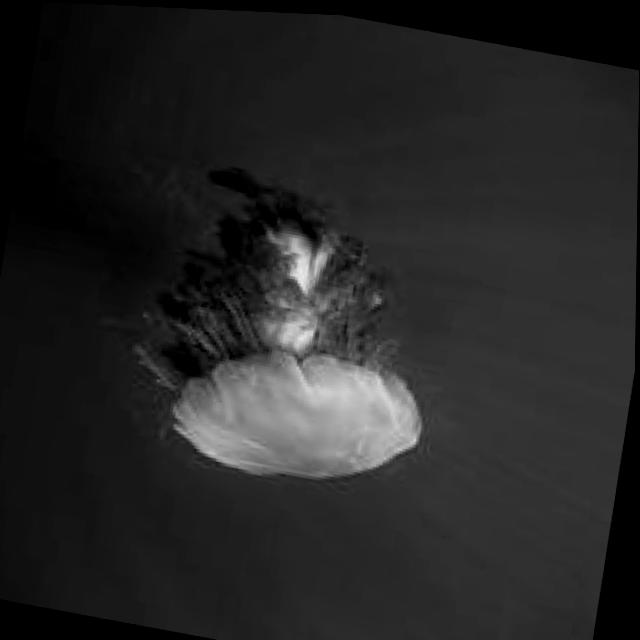Jellyfish: (115, 151, 458, 504)
